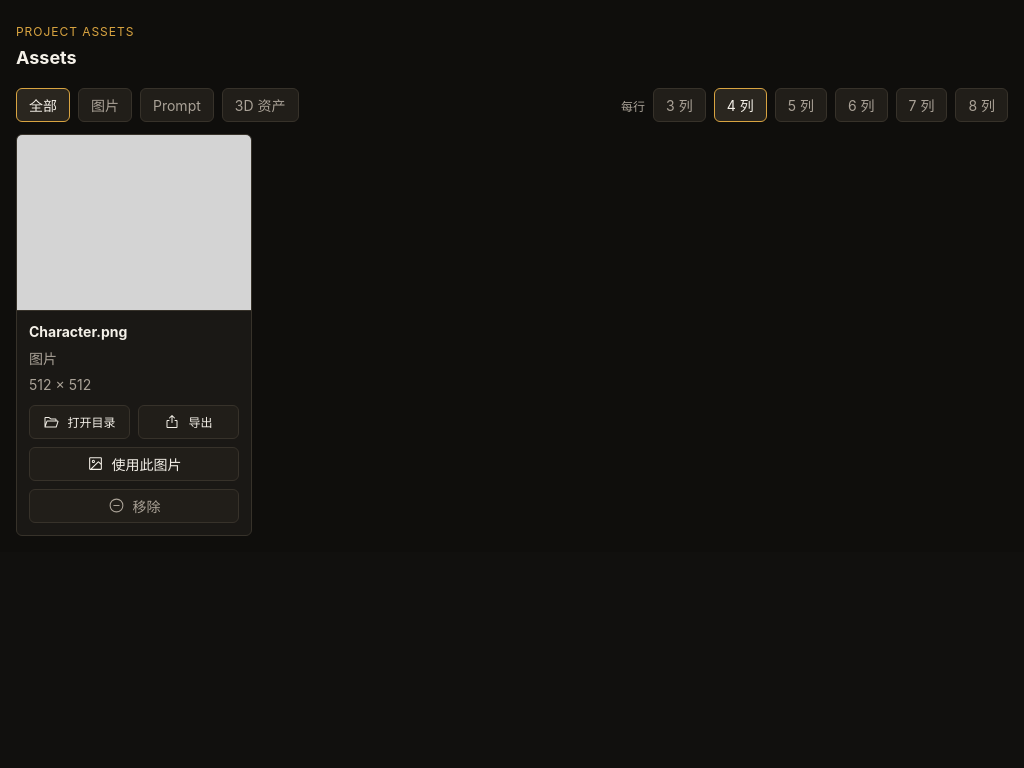
Test: AssetBrowser › uses an image as the only asset type that changes project current state
Expected: the heading "Character.png" is shown, [29,322,127,340]
What coordinates should you click on to do the following:
click the button "使用此图片"
I would click on:
 (134, 464)
Its box is [29,446,239,480].
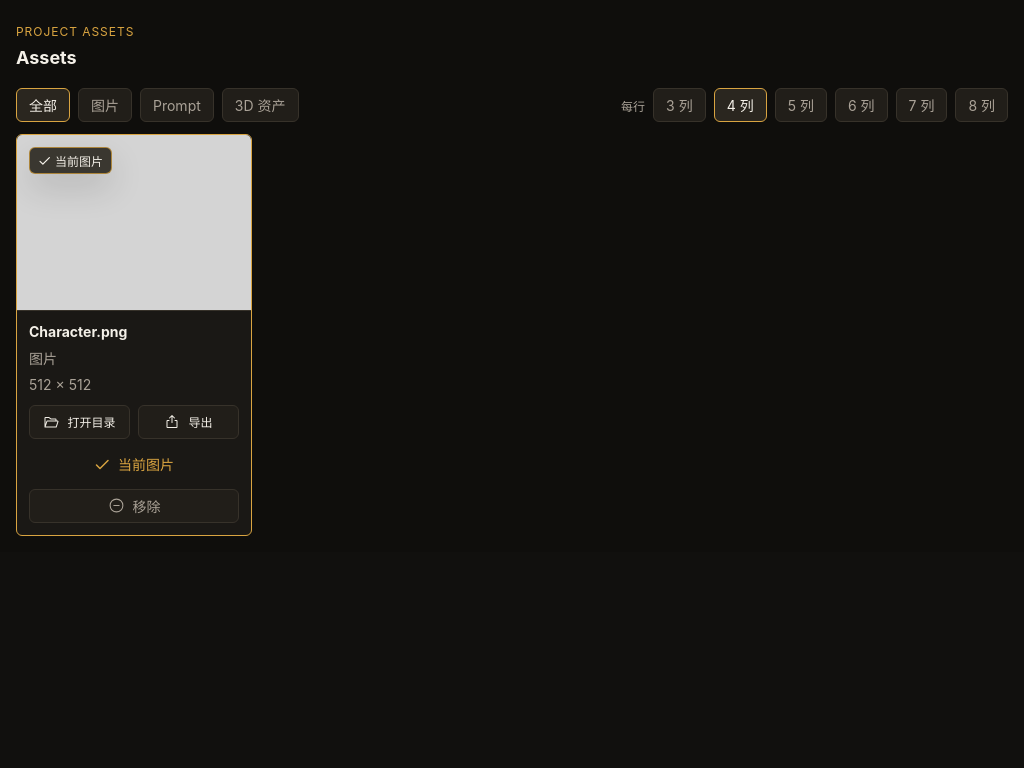
Expected: the text "当前图片" is shown 2 times, [29,147,112,174]; [94,456,174,472]
